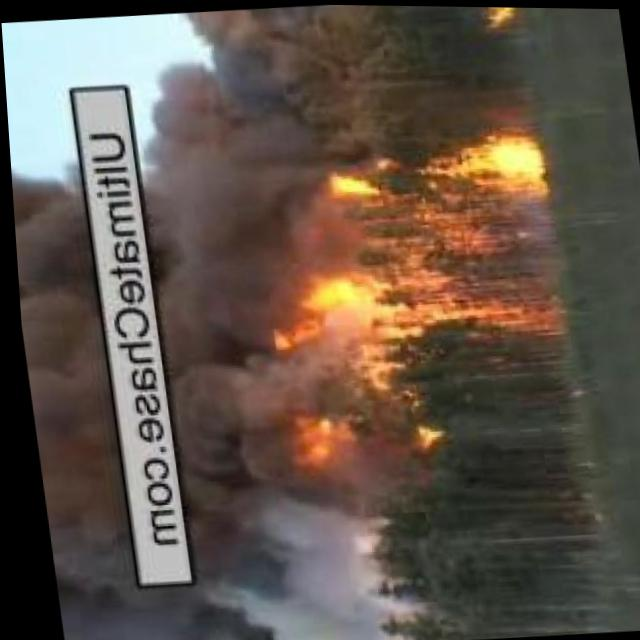Fire: (303, 116, 569, 343), (276, 398, 402, 474), (474, 6, 521, 27)
